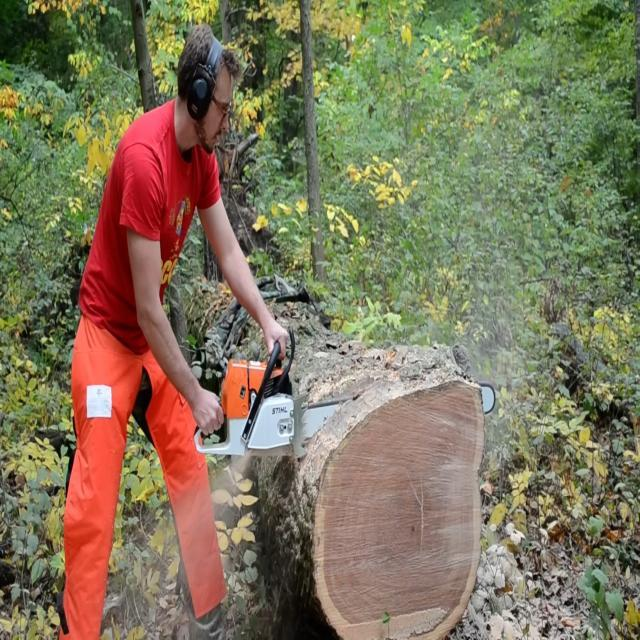Chainsaw: (172, 350, 504, 478)
